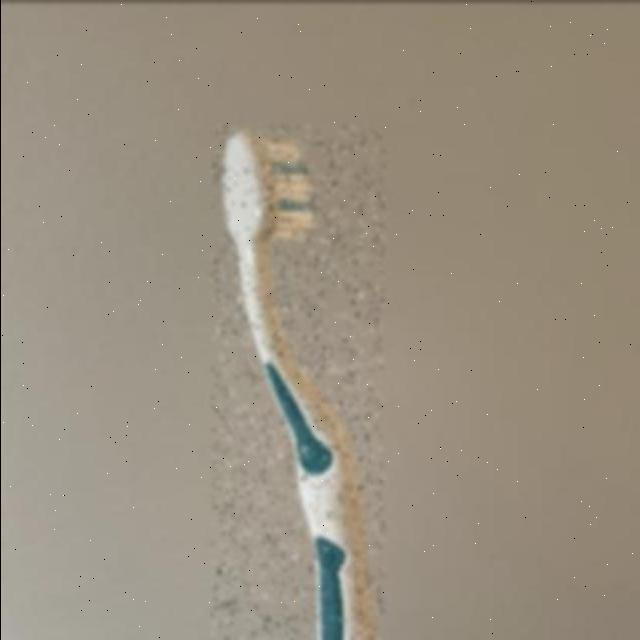toothbrush: (211, 125, 383, 640)
